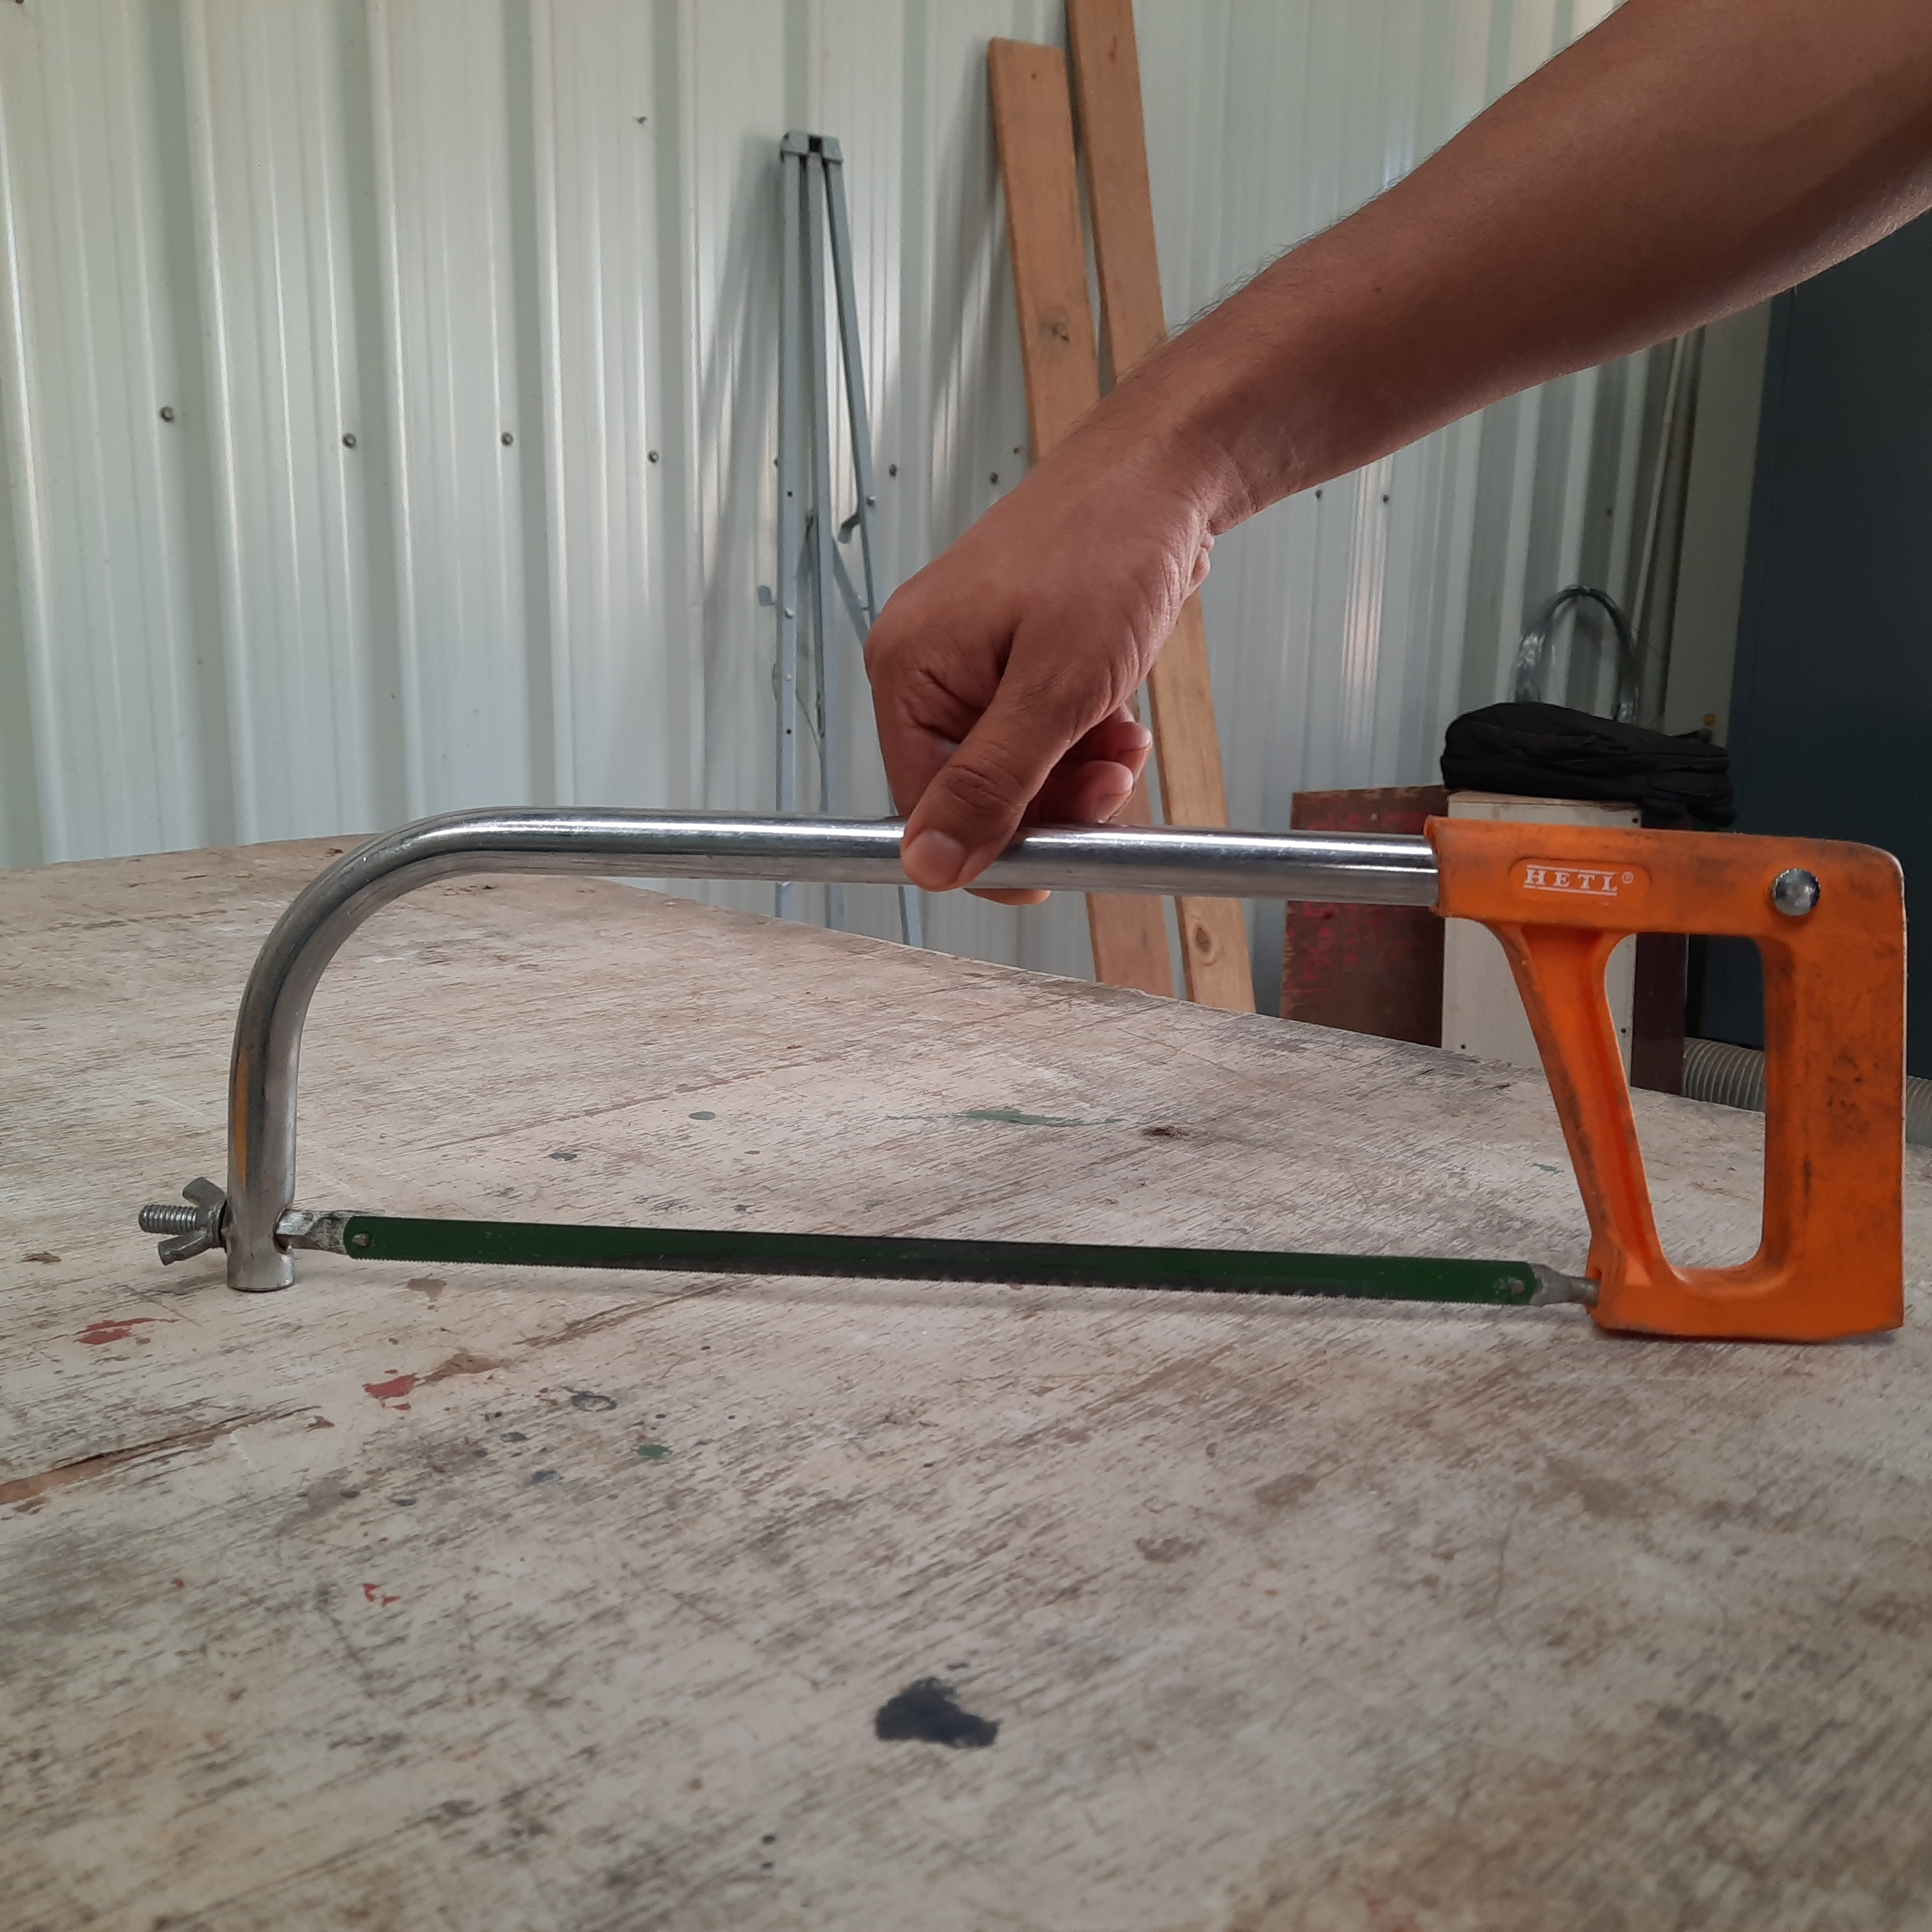Hexaframe: (127, 773, 1923, 1392)
